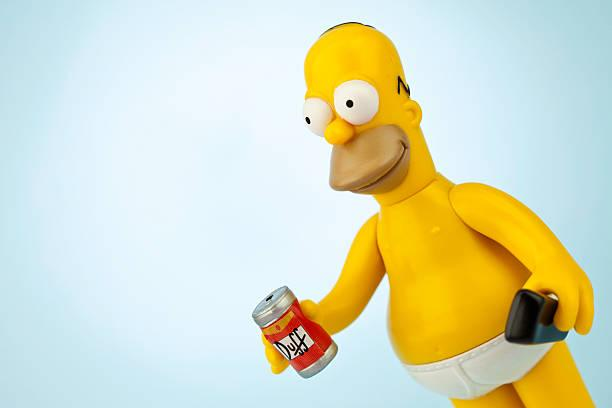Homer: (267, 12, 606, 373)
